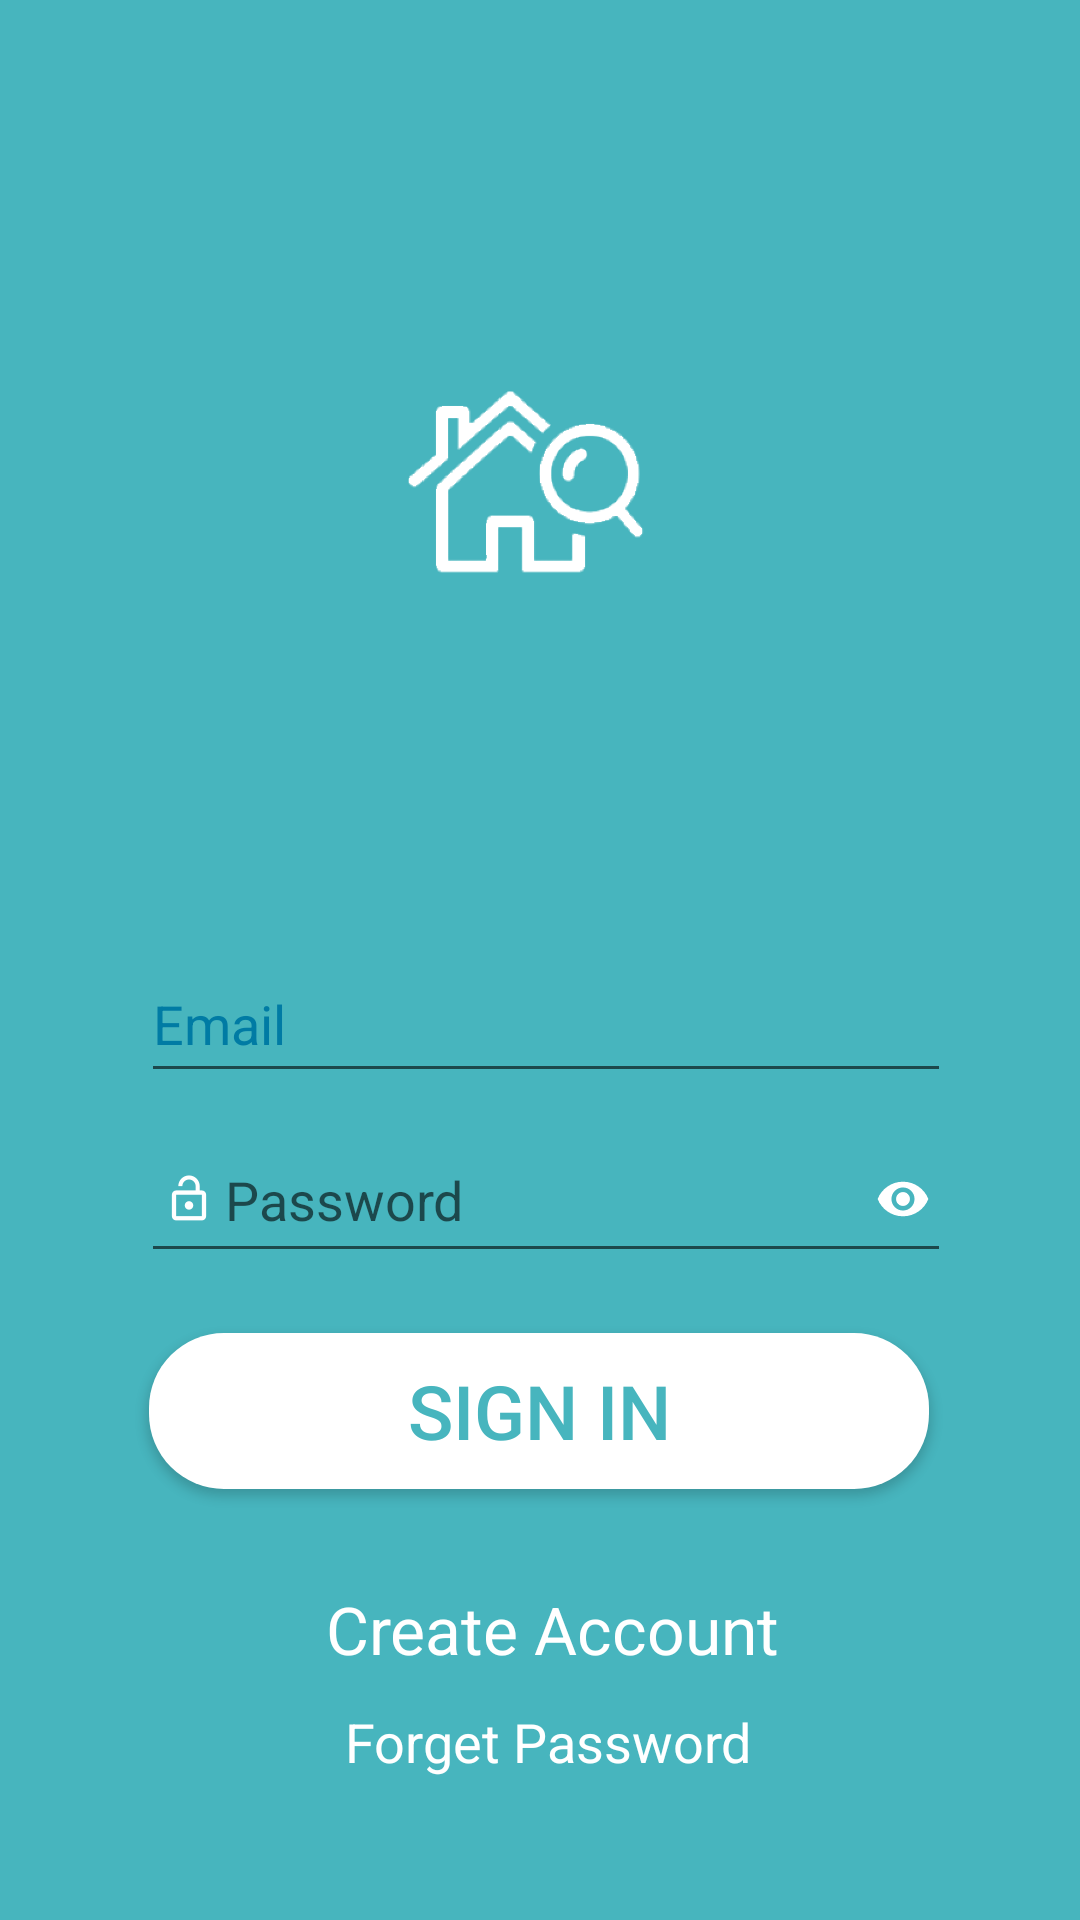

Screen size 1080w x 1920h. Icon name, then its box in pixels as {"x1": x1, "y1": y1, "x2": x2, "y2": y2}:
home design: {"x1": 408, "y1": 391, "x2": 643, "y2": 573}
